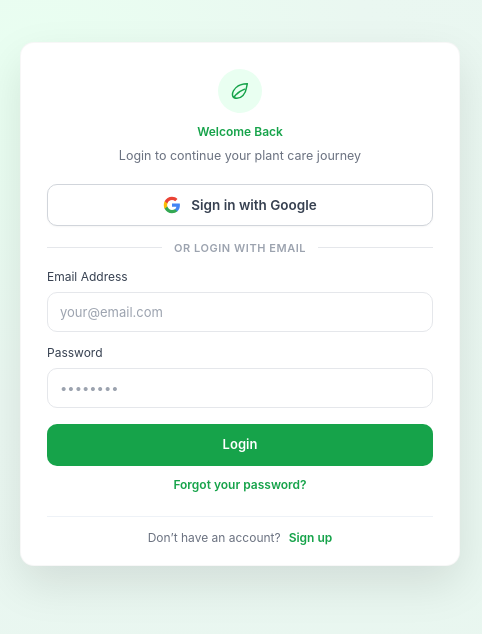
Test: Login Page UI › shows error message if fields are empty during submission
Click the button "Login".
click(240, 445)  # box [47,424,433,466]
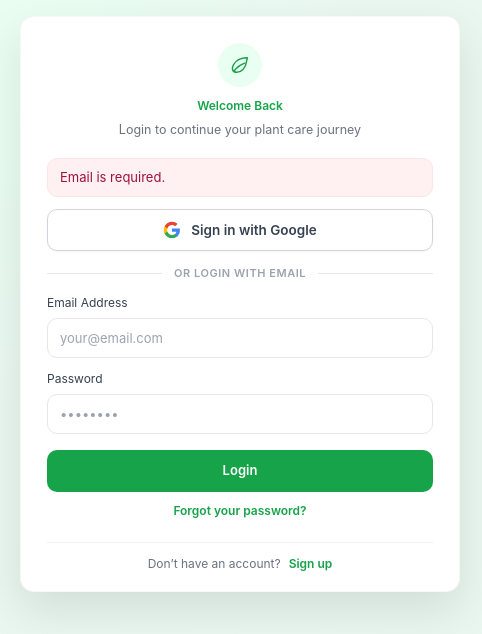
Expected: the text "Email is required." is shown, [47,158,433,197]
